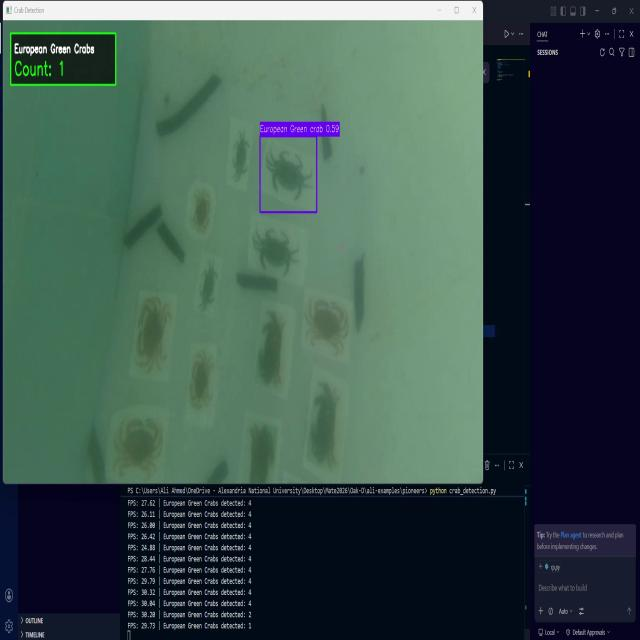European_Green_Crab: (262, 140, 314, 211), (246, 219, 300, 285), (194, 258, 220, 314), (228, 124, 251, 184)
